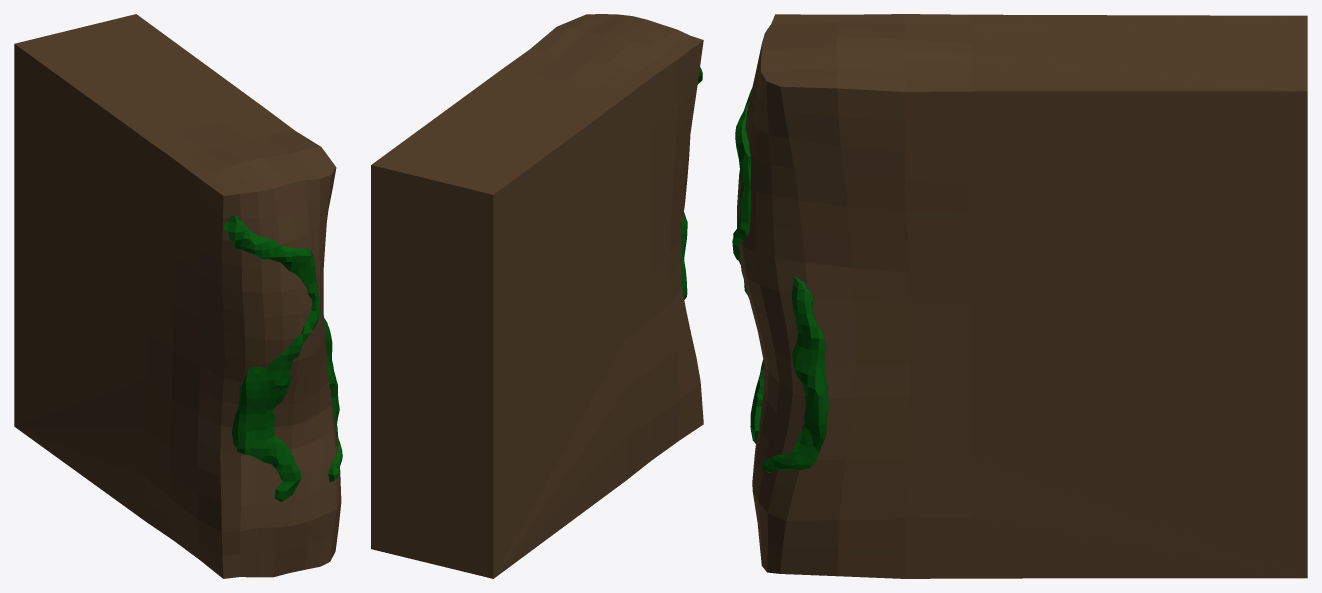
File: wallBigMoss.fbx
3 views of the same model, side by side, from view 1: azimuth 30°, elevation 25°; view 2: azimuth 150°, elevation 25°; view 3: azimuth 270°, elevation 25° (orthographic). The views are drawn at different scales.
Parts seen in each view (by area): view 1: 3x1 wall.002; view 2: 3x1 wall.002; view 3: 3x1 wall.002.
Boxes of the visible parts, <box> form: 3x1 wall.002: <box>14,14,342,578</box>; 3x1 wall.002: <box>371,14,703,578</box>; 3x1 wall.002: <box>732,14,1307,578</box>.
Size of the model in its own units: 111 by 309 by 321.
